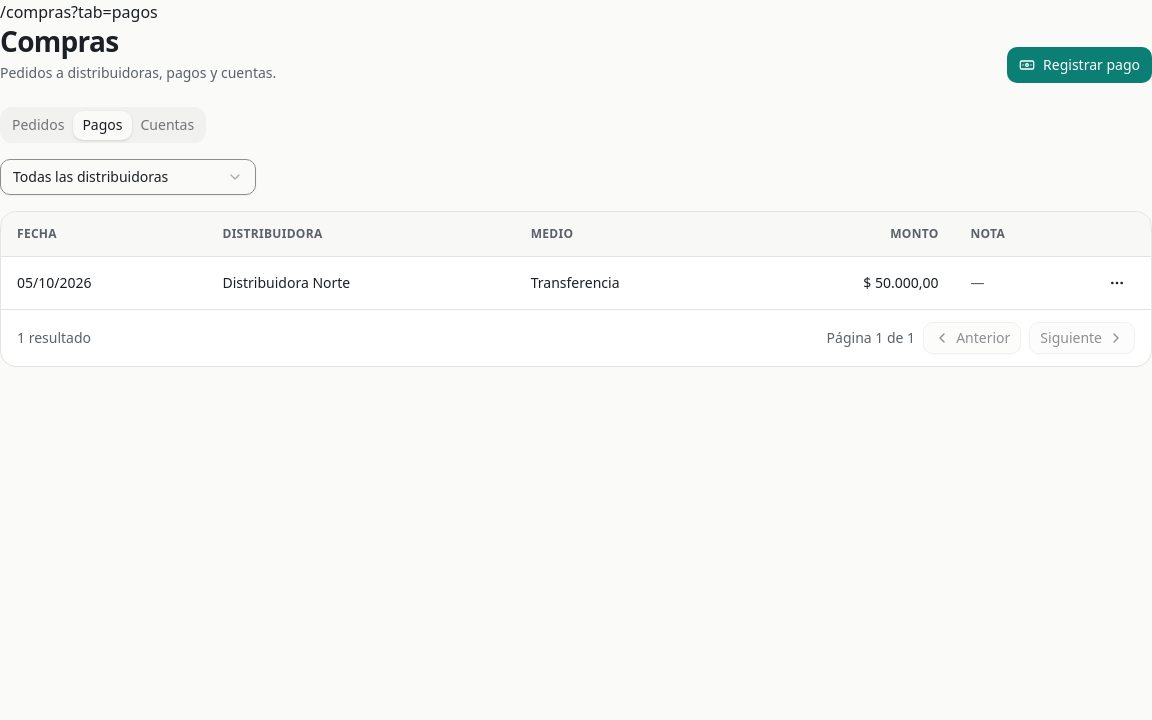
ComprasPage - pagos y cuentas (dueña) › anula un pago con confirmación
Click the button named "acciones del pago": (1117, 282) [1099,264,1135,300]
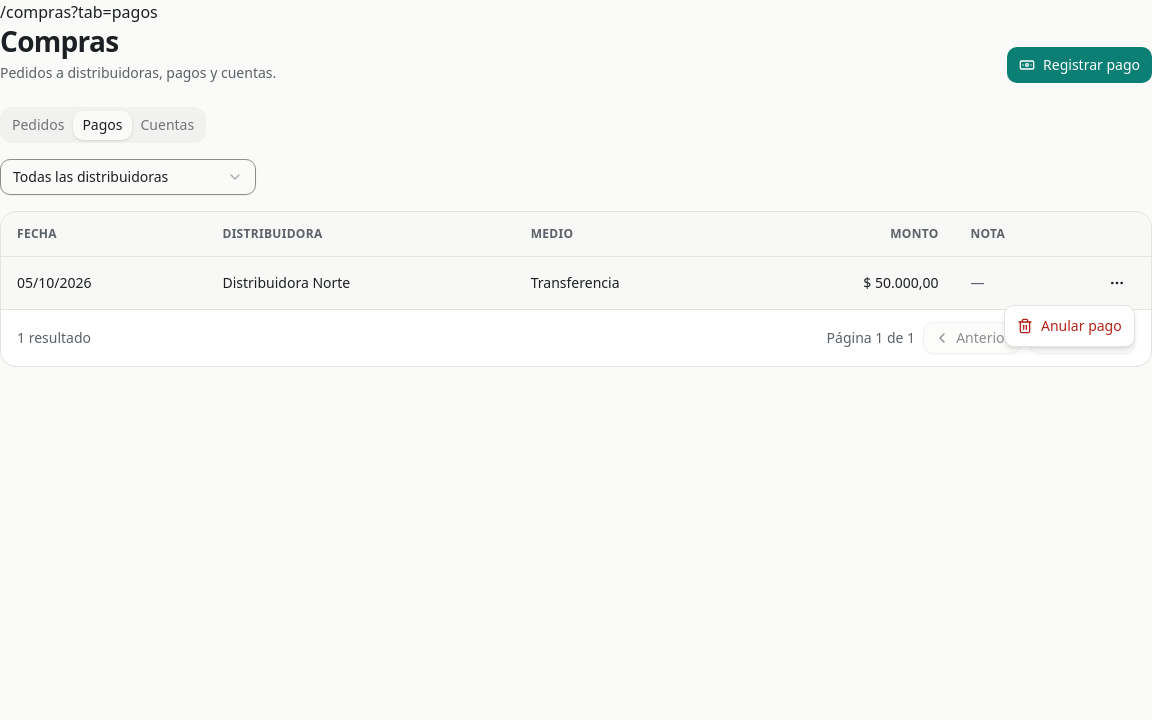
Click the menu item "Anular pago": (1069, 326) [1017,316,1122,335]
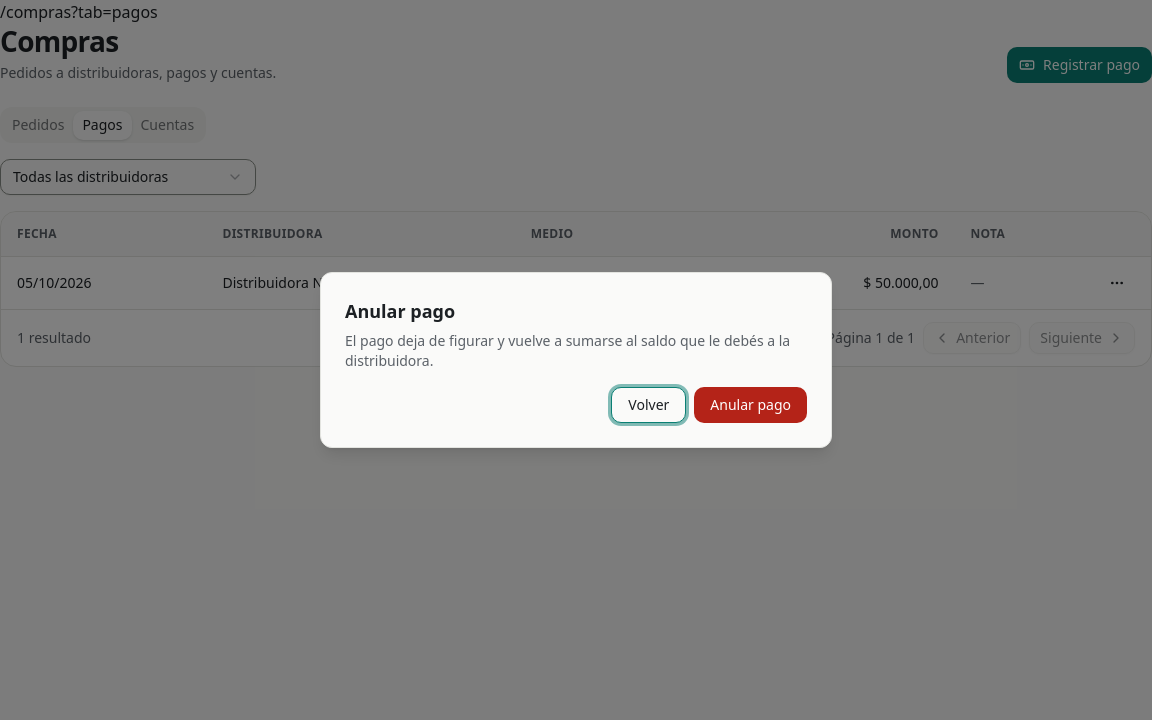
Click the button "Anular pago": (751, 405) [694,387,807,423]
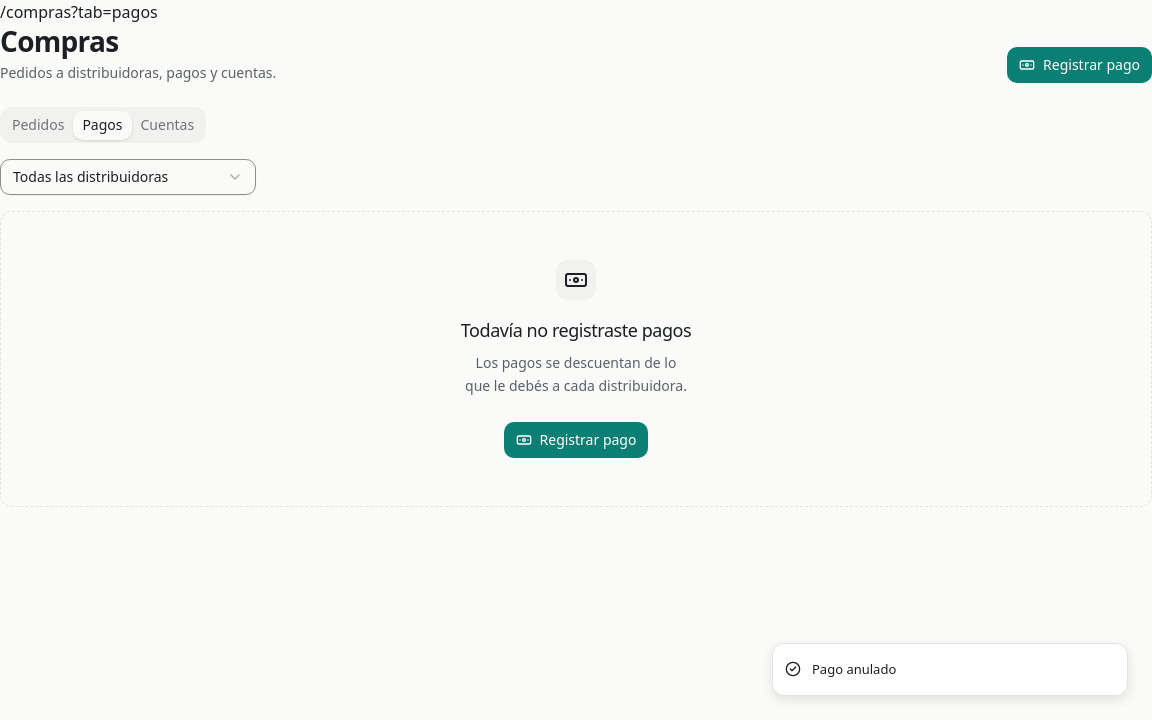
Check: the text "Pago anulado" is shown, box [812,660,896,679]
Check: the text "Todavía no registraste pagos" is shown, box [461,316,691,344]
